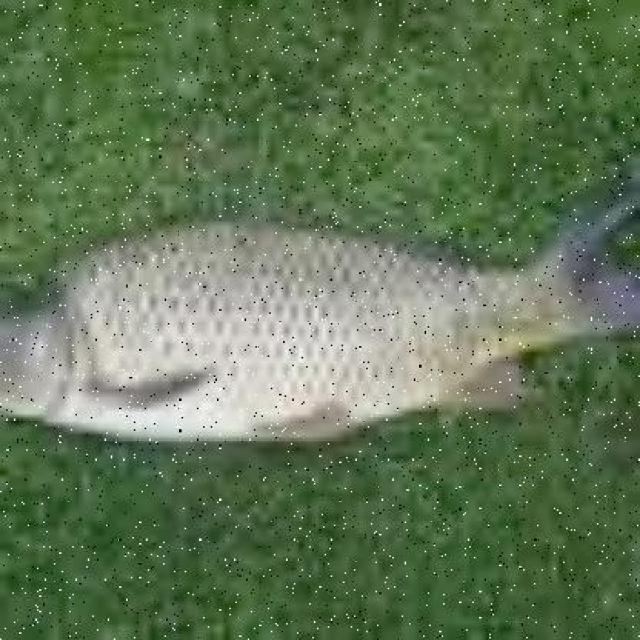ikan-mas: (1, 194, 632, 456)
